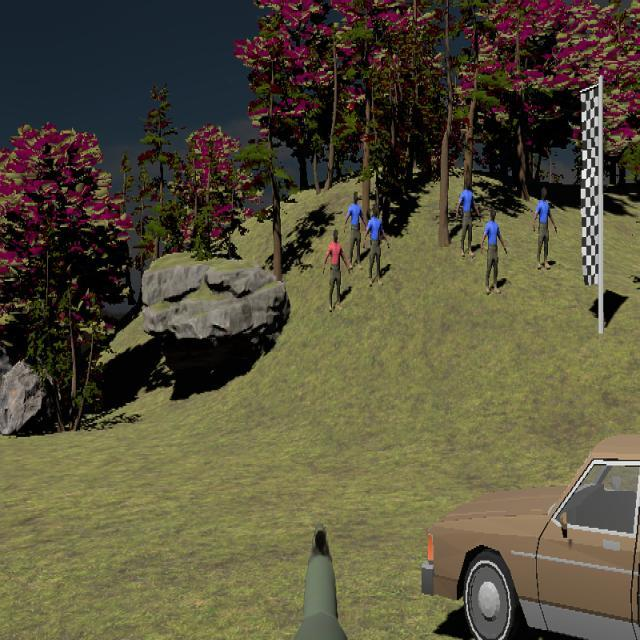Human: (323, 229, 351, 313), (481, 208, 507, 294), (364, 206, 390, 286), (455, 178, 481, 258), (533, 187, 557, 270), (533, 187, 557, 269), (344, 191, 367, 269)
car: (421, 433, 640, 639)
